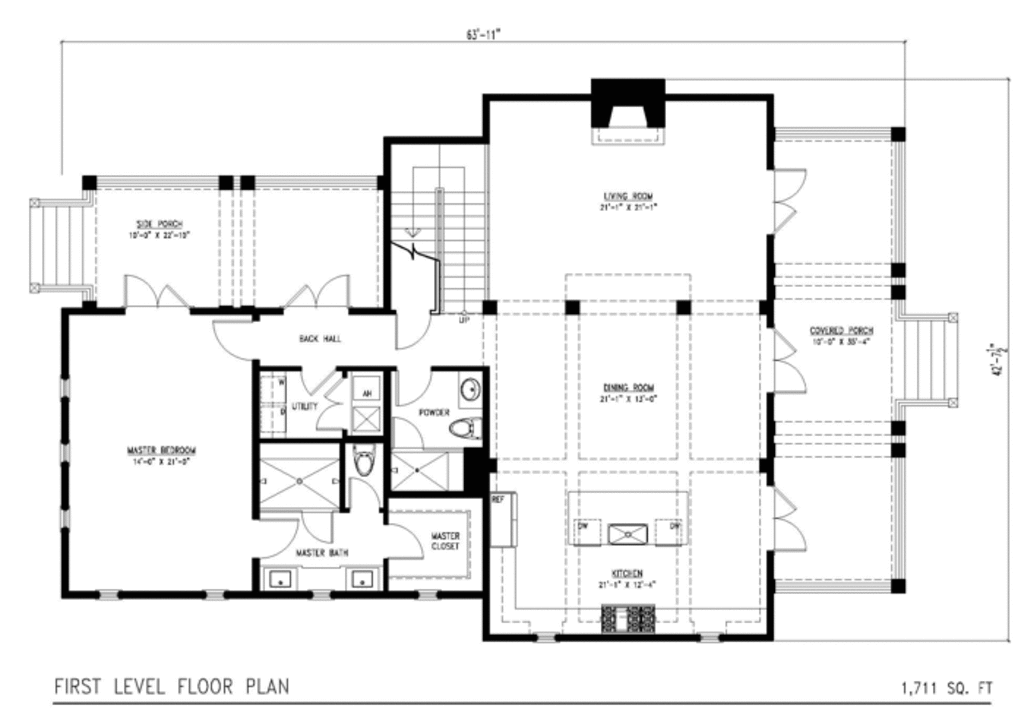door: (771, 323, 810, 397), (121, 271, 186, 312), (291, 271, 354, 313), (770, 163, 808, 232), (771, 485, 809, 552), (256, 515, 304, 558), (377, 519, 425, 562), (207, 318, 253, 359), (392, 307, 432, 354), (391, 365, 431, 407), (298, 510, 339, 547), (340, 477, 378, 514), (298, 360, 337, 395), (392, 414, 423, 452)
large_sink: (447, 414, 486, 442), (350, 438, 377, 475)
small_sink: (456, 372, 487, 409)
stairs: (383, 135, 484, 315), (890, 310, 963, 409), (25, 197, 96, 291)
windows: (86, 585, 128, 603), (196, 587, 226, 606)
